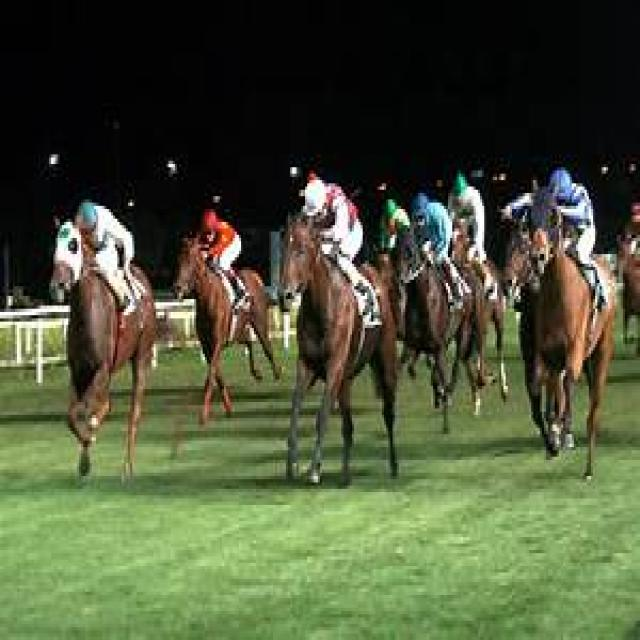horse: (282, 222, 399, 489), (53, 212, 156, 486), (518, 196, 614, 479), (175, 212, 277, 428), (397, 215, 493, 431)
